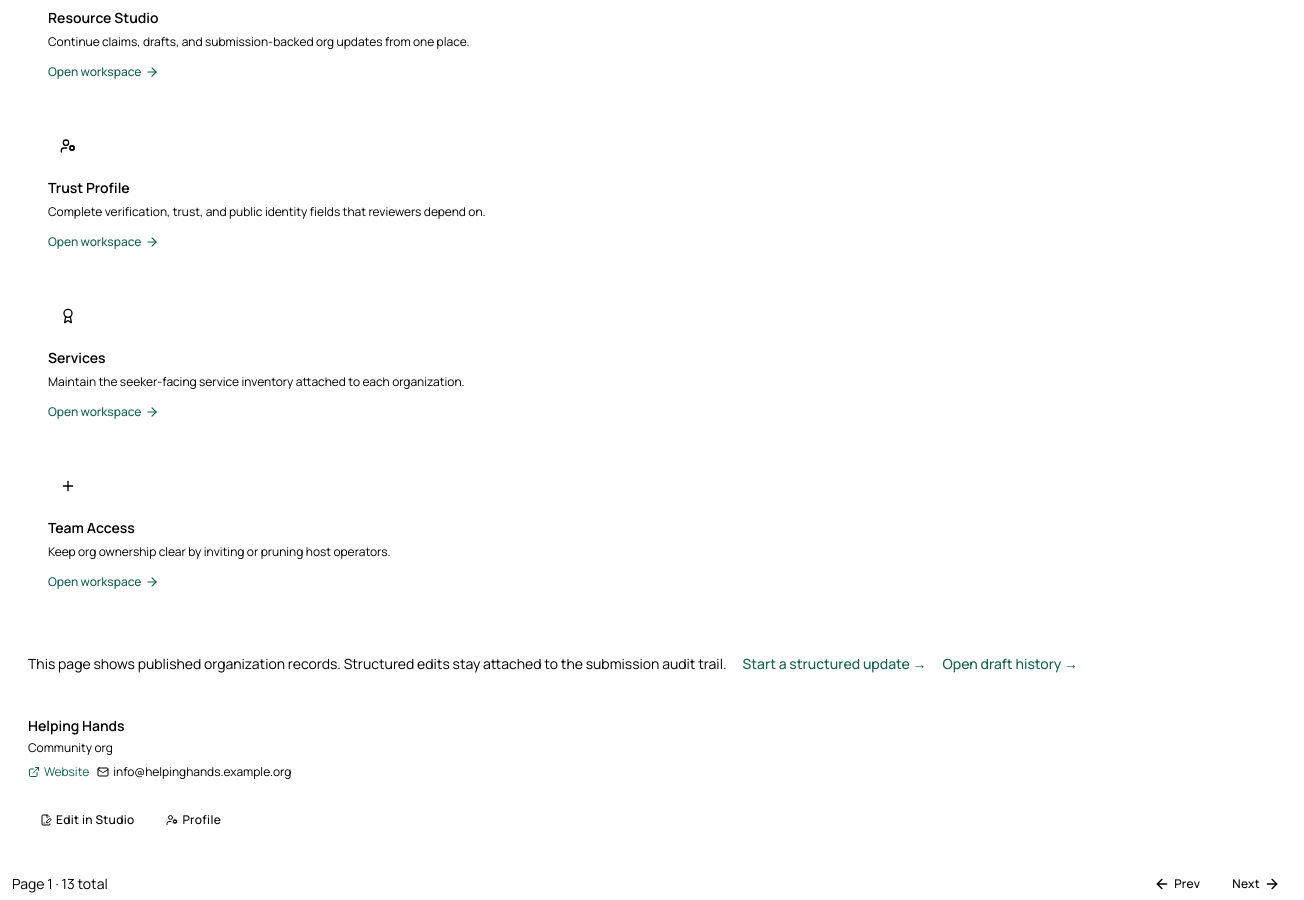
Test case: host org dashboard page › supports pagination without a direct archive mutation path
This screenshot has width=1304, height=900.
(page scrolled)
Expected: the heading "Helping Hands" is shown, [28, 716, 125, 736]
Click the button "Next": point(1256, 884) [1220, 868, 1292, 899]
(page scrolled)
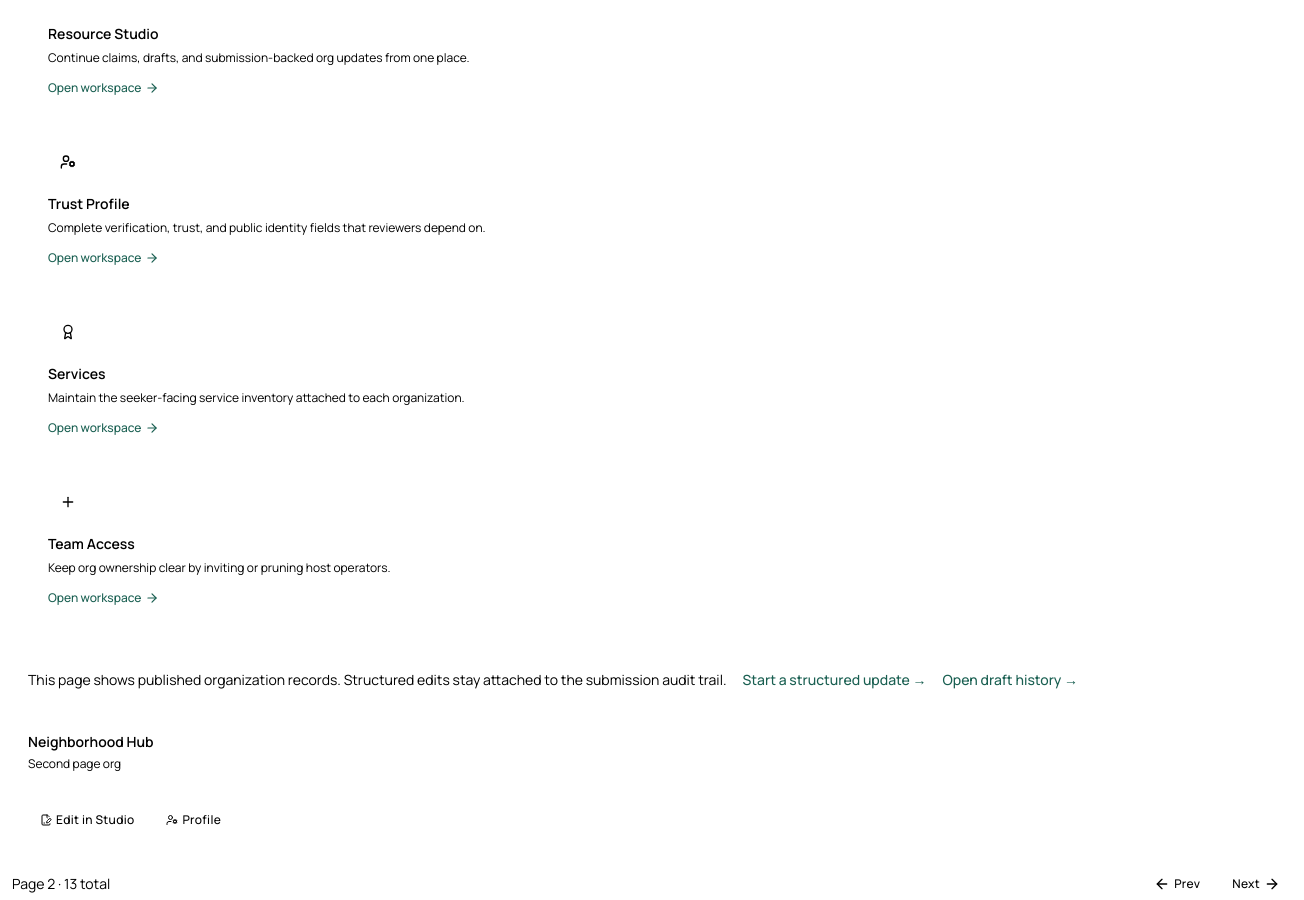
Now the heading "Neighborhood Hub" is shown, box [28, 732, 154, 752]
